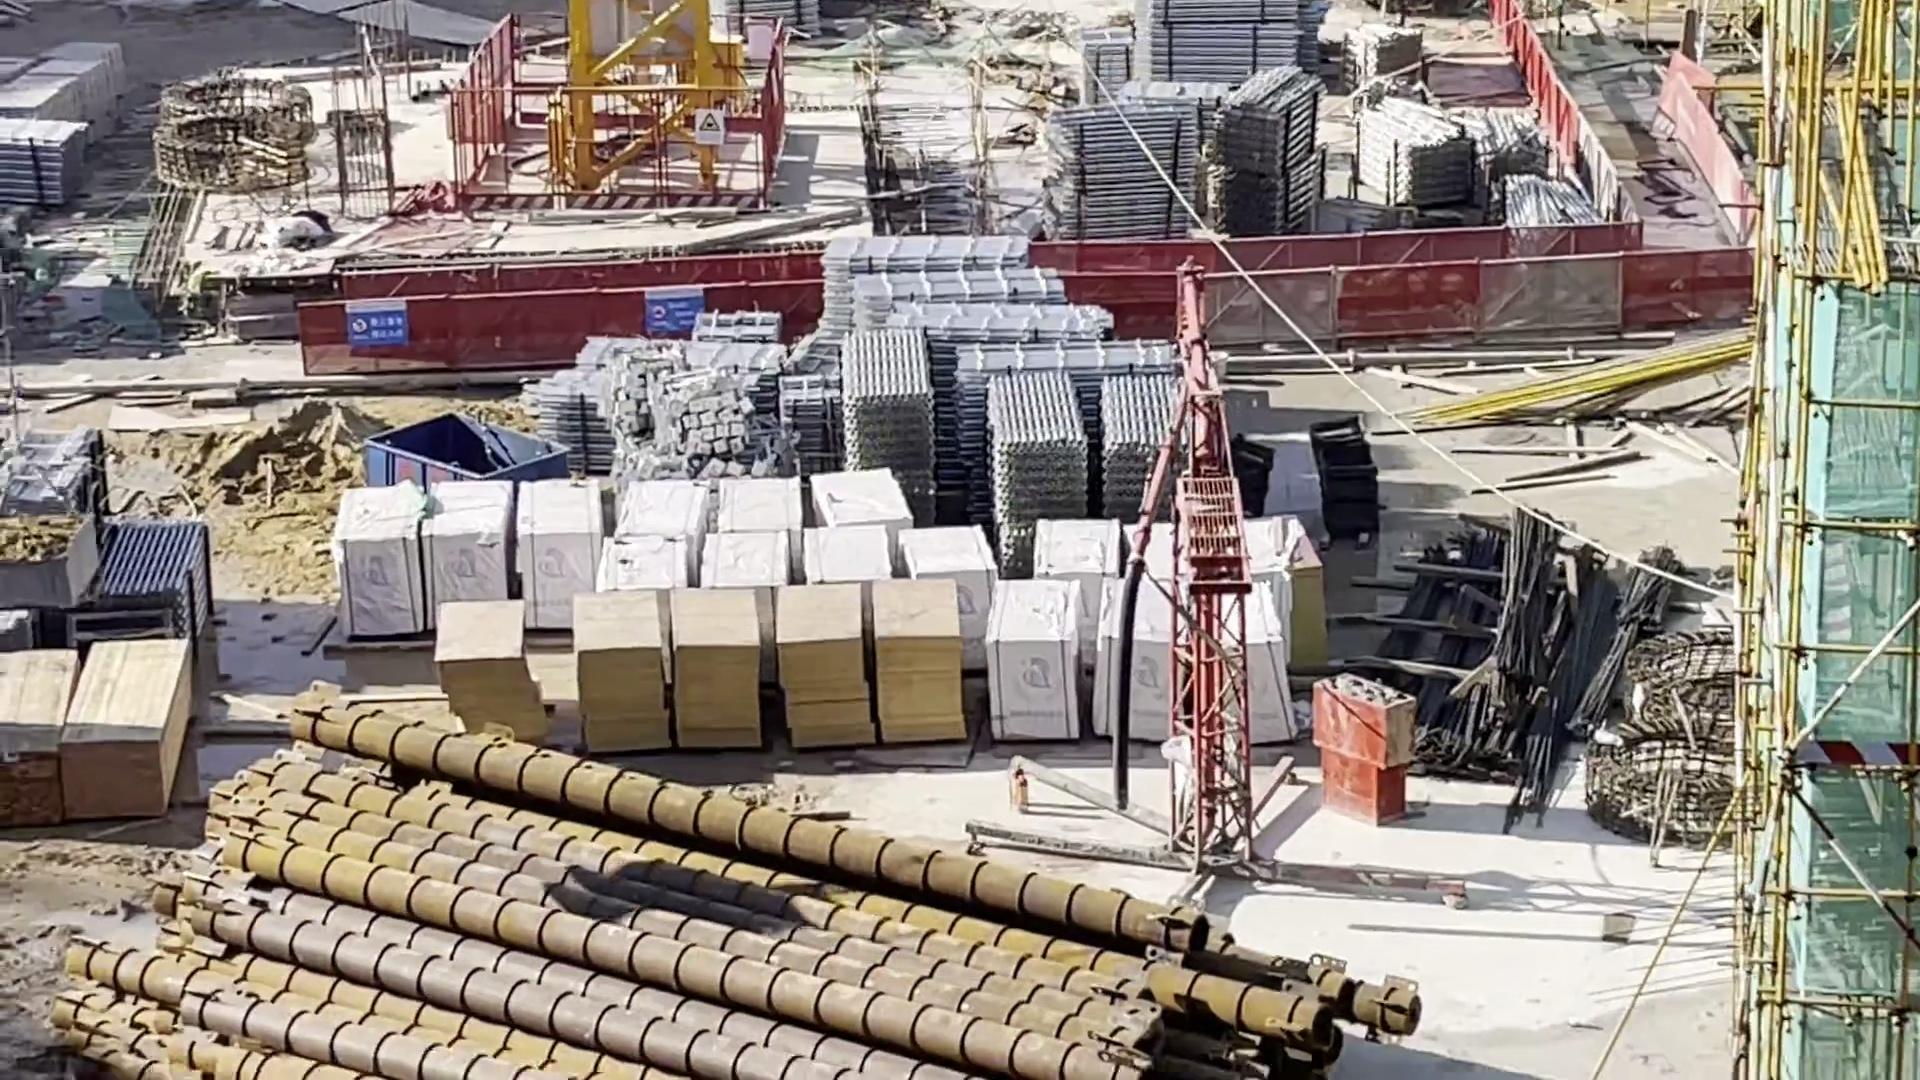board: (779, 601, 885, 769), (657, 587, 756, 760), (564, 589, 663, 761), (877, 596, 971, 771), (80, 640, 175, 811), (436, 604, 543, 731)
fence: (1146, 255, 1729, 335), (301, 291, 793, 353), (1509, 18, 1618, 224), (359, 255, 822, 286), (1131, 229, 1655, 256)
hopper: (359, 414, 564, 485), (1, 514, 96, 591)
rebar: (1402, 539, 1502, 742), (1581, 553, 1689, 737), (1511, 578, 1600, 791), (1352, 556, 1443, 694), (1480, 520, 1538, 678)
scaffold: (957, 338, 1183, 386), (988, 392, 1093, 495), (1096, 392, 1192, 500), (861, 339, 943, 452), (865, 261, 1056, 309), (111, 527, 204, 622), (924, 301, 1100, 348), (1137, 33, 1279, 88), (1357, 120, 1460, 196), (1055, 179, 1179, 243), (531, 386, 615, 475), (1226, 165, 1327, 235), (827, 229, 1015, 265), (1063, 125, 1187, 177), (1226, 84, 1320, 152), (1156, 4, 1320, 36), (1080, 49, 1139, 131), (1361, 36, 1437, 87), (787, 392, 845, 455)
slogan: (640, 287, 702, 335), (349, 309, 410, 353), (694, 109, 728, 150)
wood: (1, 659, 63, 829)
